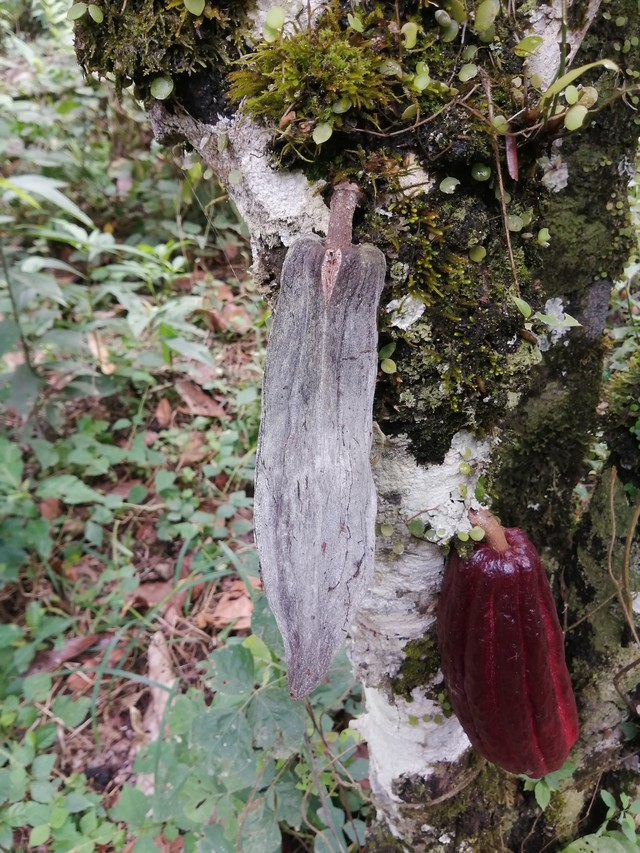Health: (430, 510, 587, 782)
moniliophthora roreri: (238, 222, 400, 708)
